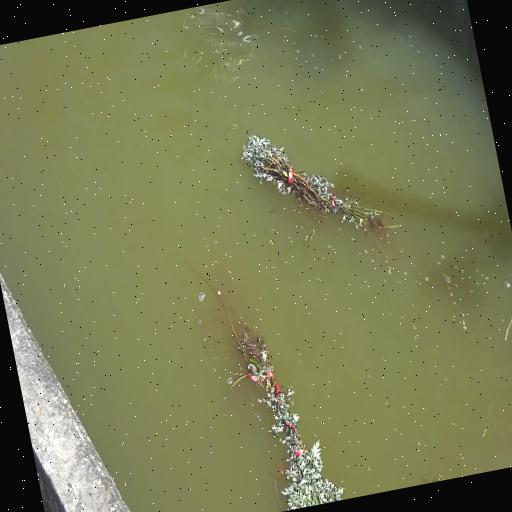twig: (174, 244, 342, 510), (242, 135, 394, 231)
